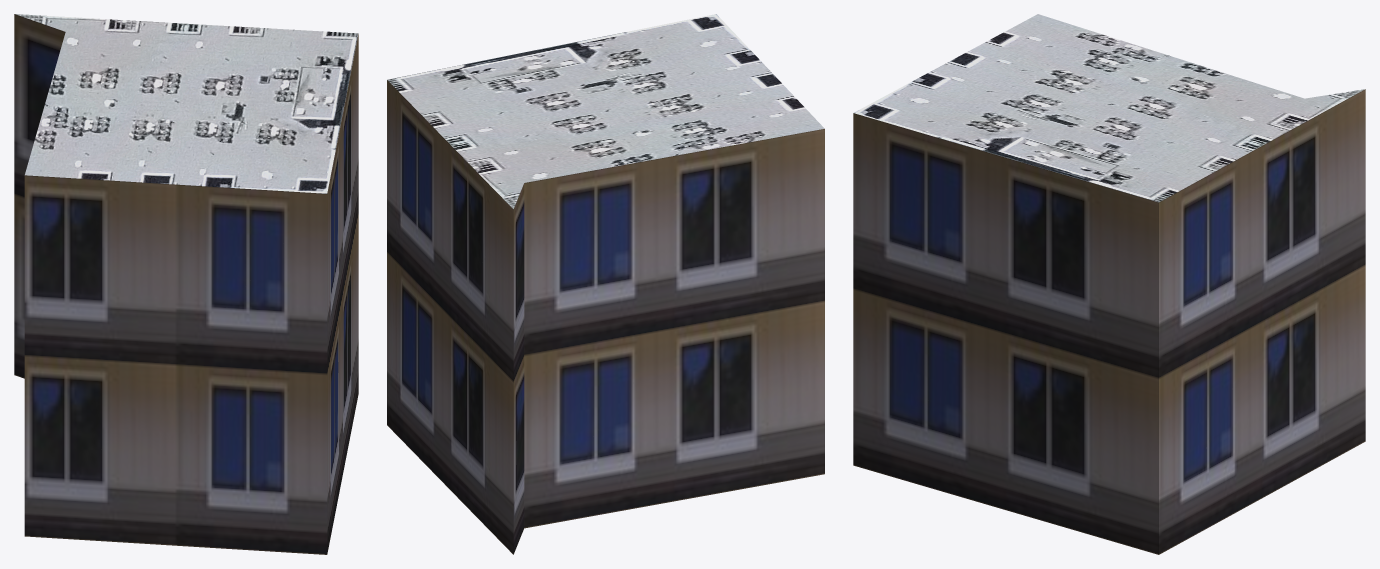
The model's file is ResTex__2186.fbx.
The picture shows the model from 3 angles, left to right: view 1: azimuth 30°, elevation 25°; view 2: azimuth 150°, elevation 25°; view 3: azimuth 270°, elevation 25°; orthographic projection. The views are drawn at different scales.
Parts seen in each view (by area): view 1: CityEngineMaterial_5_m, CityEngineMaterial_2_m; view 2: CityEngineMaterial_5_m, CityEngineMaterial_2_m; view 3: CityEngineMaterial_5_m, CityEngineMaterial_2_m.
Boxes of the visible parts, x1,y1,x2,y2 form: CityEngineMaterial_5_m: (14, 14, 358, 554); CityEngineMaterial_2_m: (15, 14, 358, 193); CityEngineMaterial_5_m: (387, 80, 824, 554); CityEngineMaterial_2_m: (387, 14, 824, 208); CityEngineMaterial_5_m: (853, 89, 1365, 554); CityEngineMaterial_2_m: (854, 14, 1365, 202).
Size of the model in its own units: 6.88 by 6 by 7.9.
2 materials, 2 textured.
